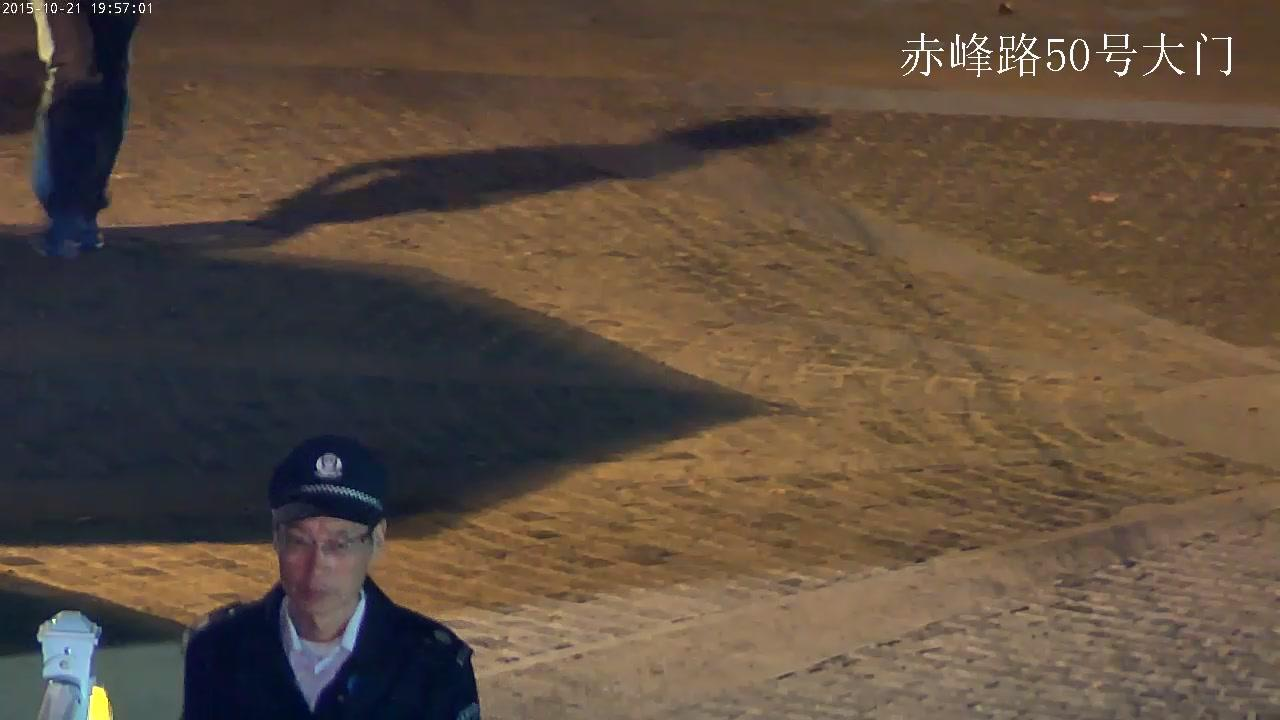person: (178, 437, 479, 720), (31, 0, 140, 257)
